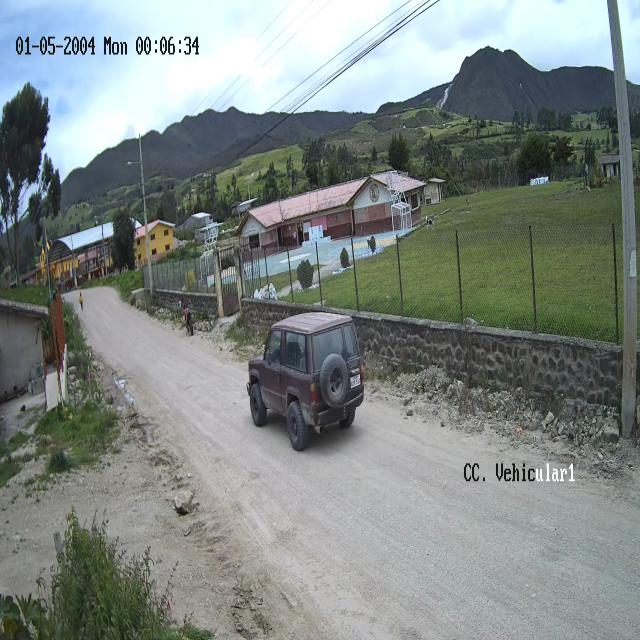SUV: (248, 313, 365, 454)
